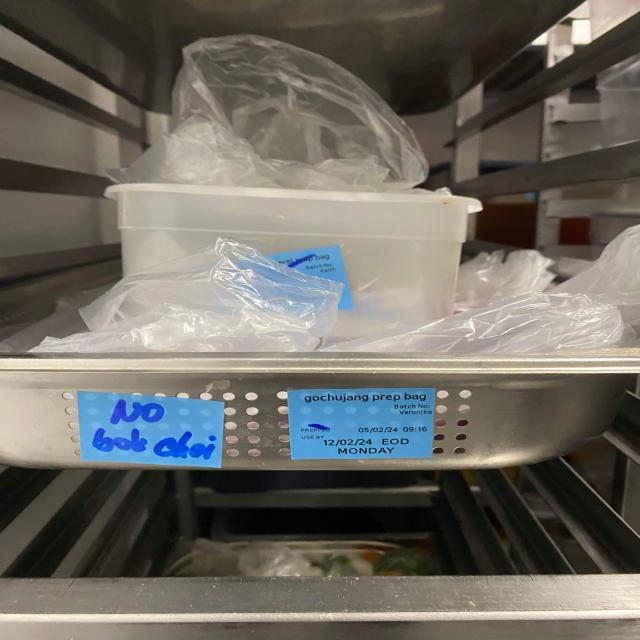product-labels: (286, 387, 436, 459)
